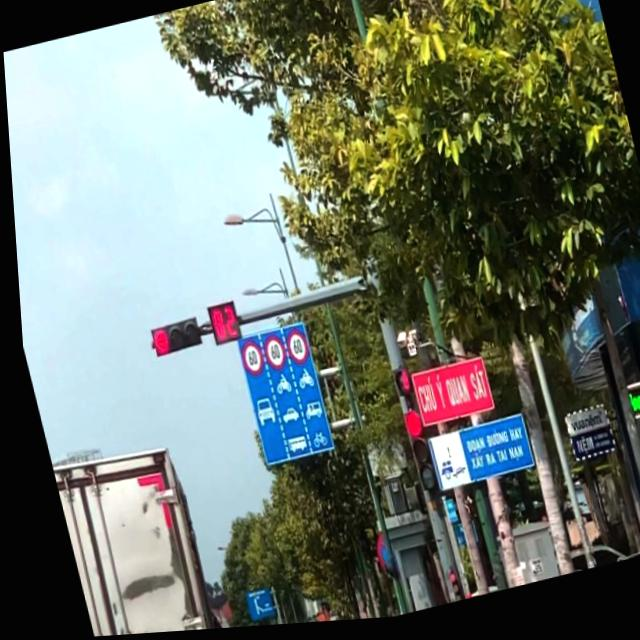Toc do toi da cho phep: (255, 335, 284, 377), (278, 331, 306, 371), (234, 341, 261, 380)
